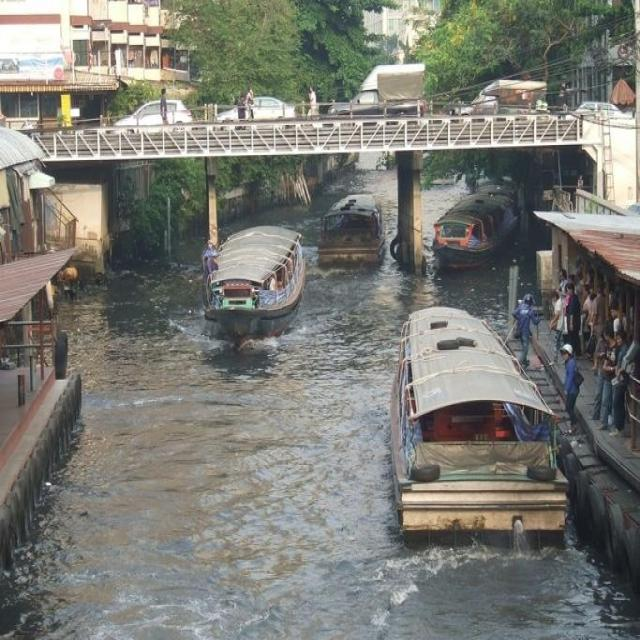boat: (371, 302, 567, 539), (206, 220, 304, 318), (428, 183, 511, 260), (312, 188, 385, 270)
